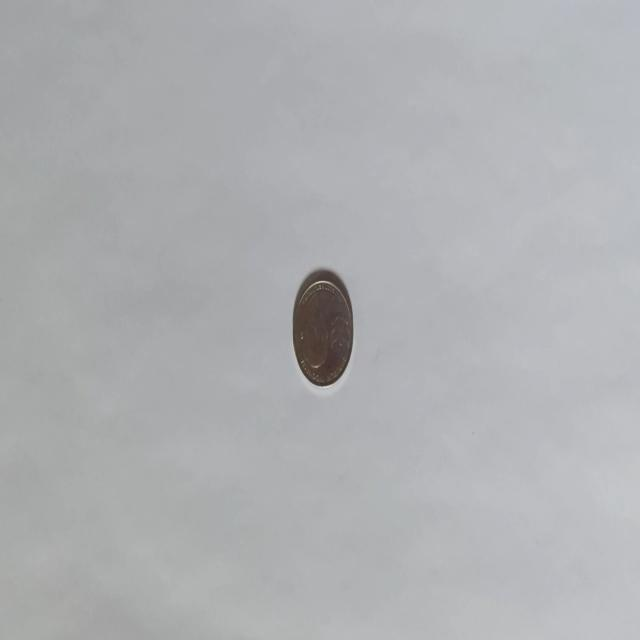seribu rupiah koin: (291, 268, 354, 388)
